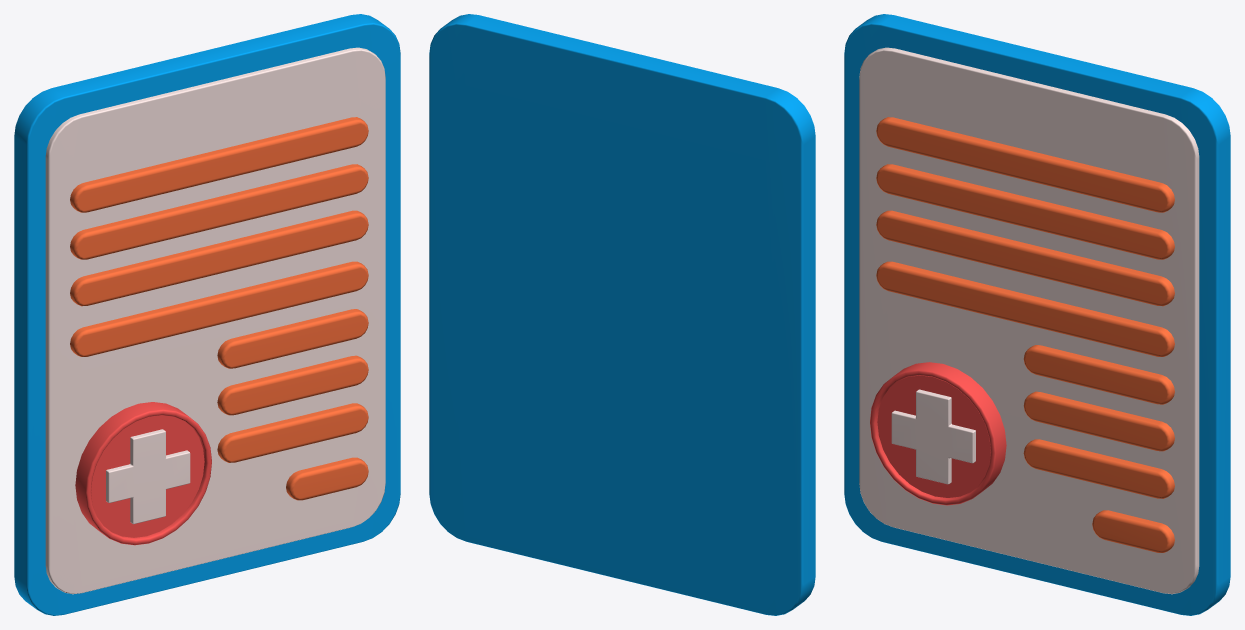
Rendered from Store_15_Prescription_for_medicine_1.glb.
The picture shows the model from 3 angles, left to right: view 1: azimuth 30°, elevation 25°; view 2: azimuth 150°, elevation 25°; view 3: azimuth 330°, elevation 25°; orthographic projection.
Visible parts, largest first — view 1: Store_15_Prescription_for_medicine_1; view 2: Store_15_Prescription_for_medicine_1; view 3: Store_15_Prescription_for_medicine_1.
Boxes of the visible parts, x1,y1,x2,y2 form: Store_15_Prescription_for_medicine_1: (14, 14, 400, 615); Store_15_Prescription_for_medicine_1: (429, 14, 815, 615); Store_15_Prescription_for_medicine_1: (844, 14, 1230, 615).
Bounding box in the file's own units: 3.88 × 5.13 × 0.5518.
Materials: 1 (1 with a texture image).
